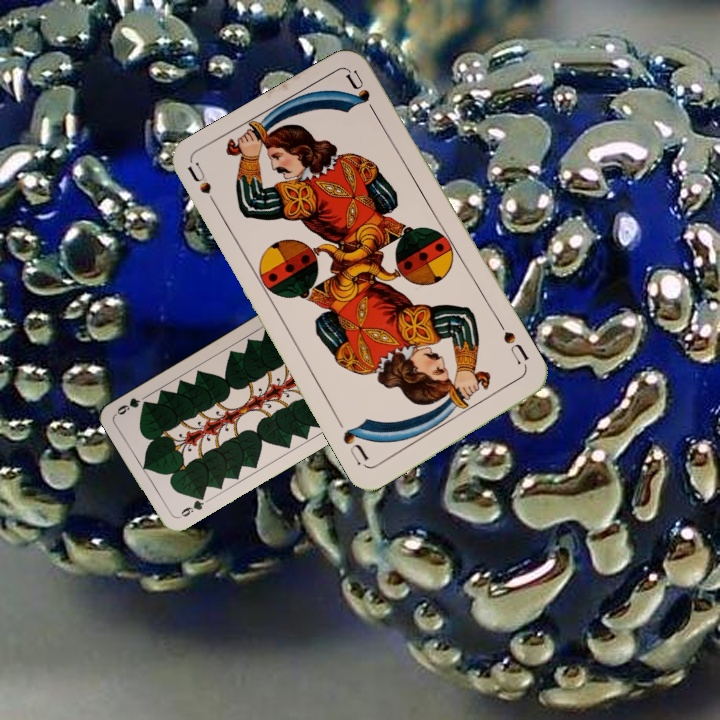G9: (174, 491, 207, 521)
SU: (184, 159, 224, 216), (499, 327, 532, 367)
